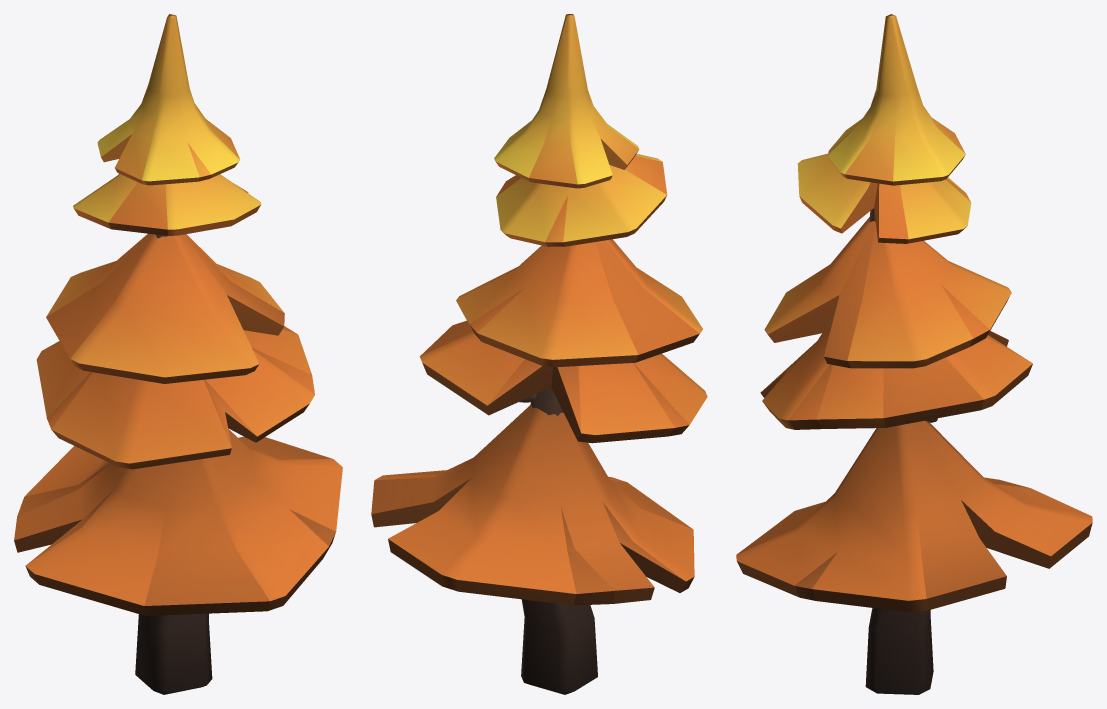
Rendered from pine_tree_col2_04.fbx.
3 views of the same model, side by side, from view 1: azimuth 30°, elevation 25°; view 2: azimuth 150°, elevation 25°; view 3: azimuth 270°, elevation 25° (orthographic).
Visible parts, largest first — view 1: pine_tree_col2_04; view 2: pine_tree_col2_04; view 3: pine_tree_col2_04.
Boxes of the visible parts, left/top/right/bottom form: pine_tree_col2_04: left=14, top=14, right=342, bottom=694; pine_tree_col2_04: left=371, top=14, right=707, bottom=694; pine_tree_col2_04: left=736, top=14, right=1092, bottom=694.
Size of the model in its own units: 528 by 1086 by 526.
1 material, 1 textured.
